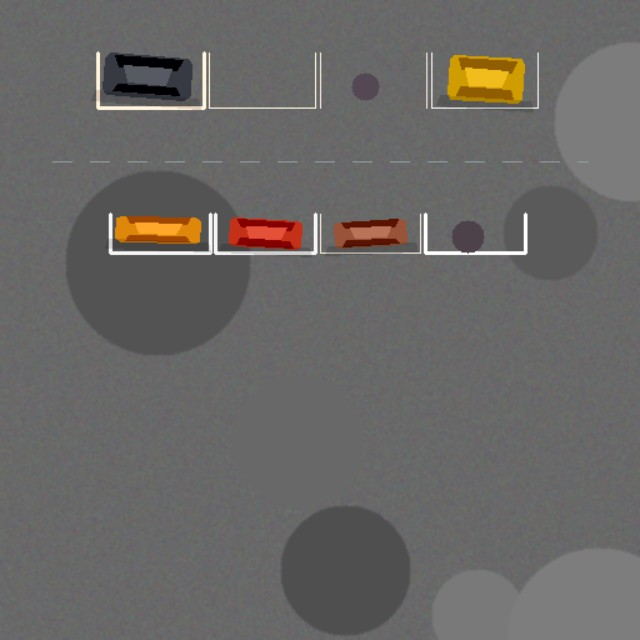space-empty: (209, 52, 315, 108), (320, 52, 426, 108), (425, 214, 525, 253)
space-occupied: (431, 52, 538, 108), (98, 52, 204, 108), (110, 214, 210, 253), (215, 214, 315, 253), (320, 214, 420, 253)
